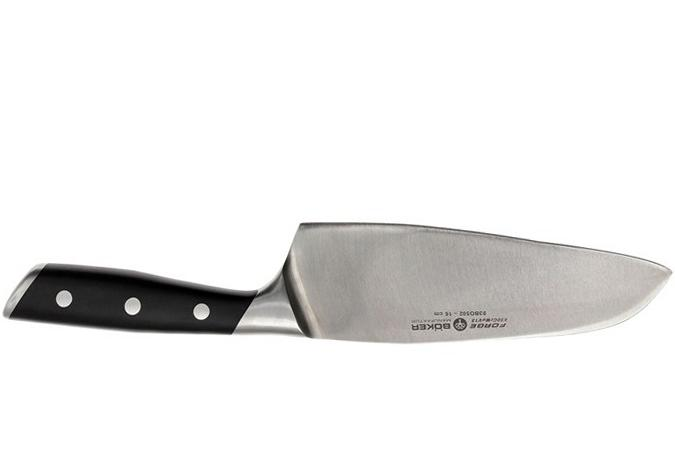knife: (4, 223, 674, 344)
